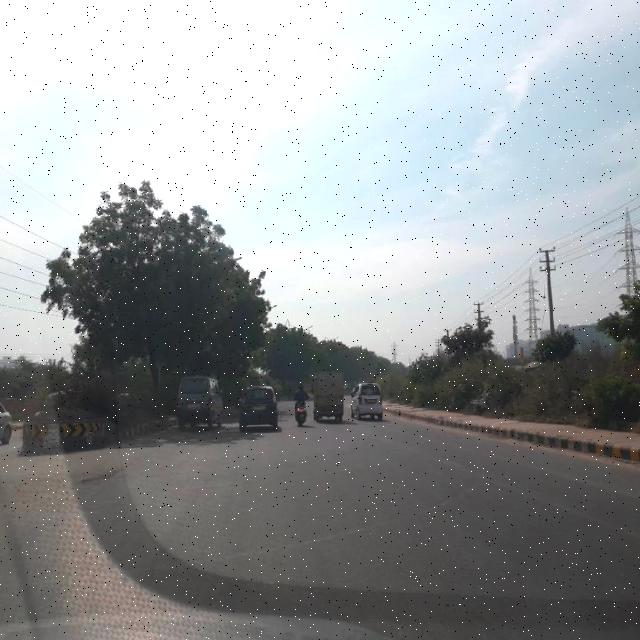D40: (81, 459, 126, 488)
